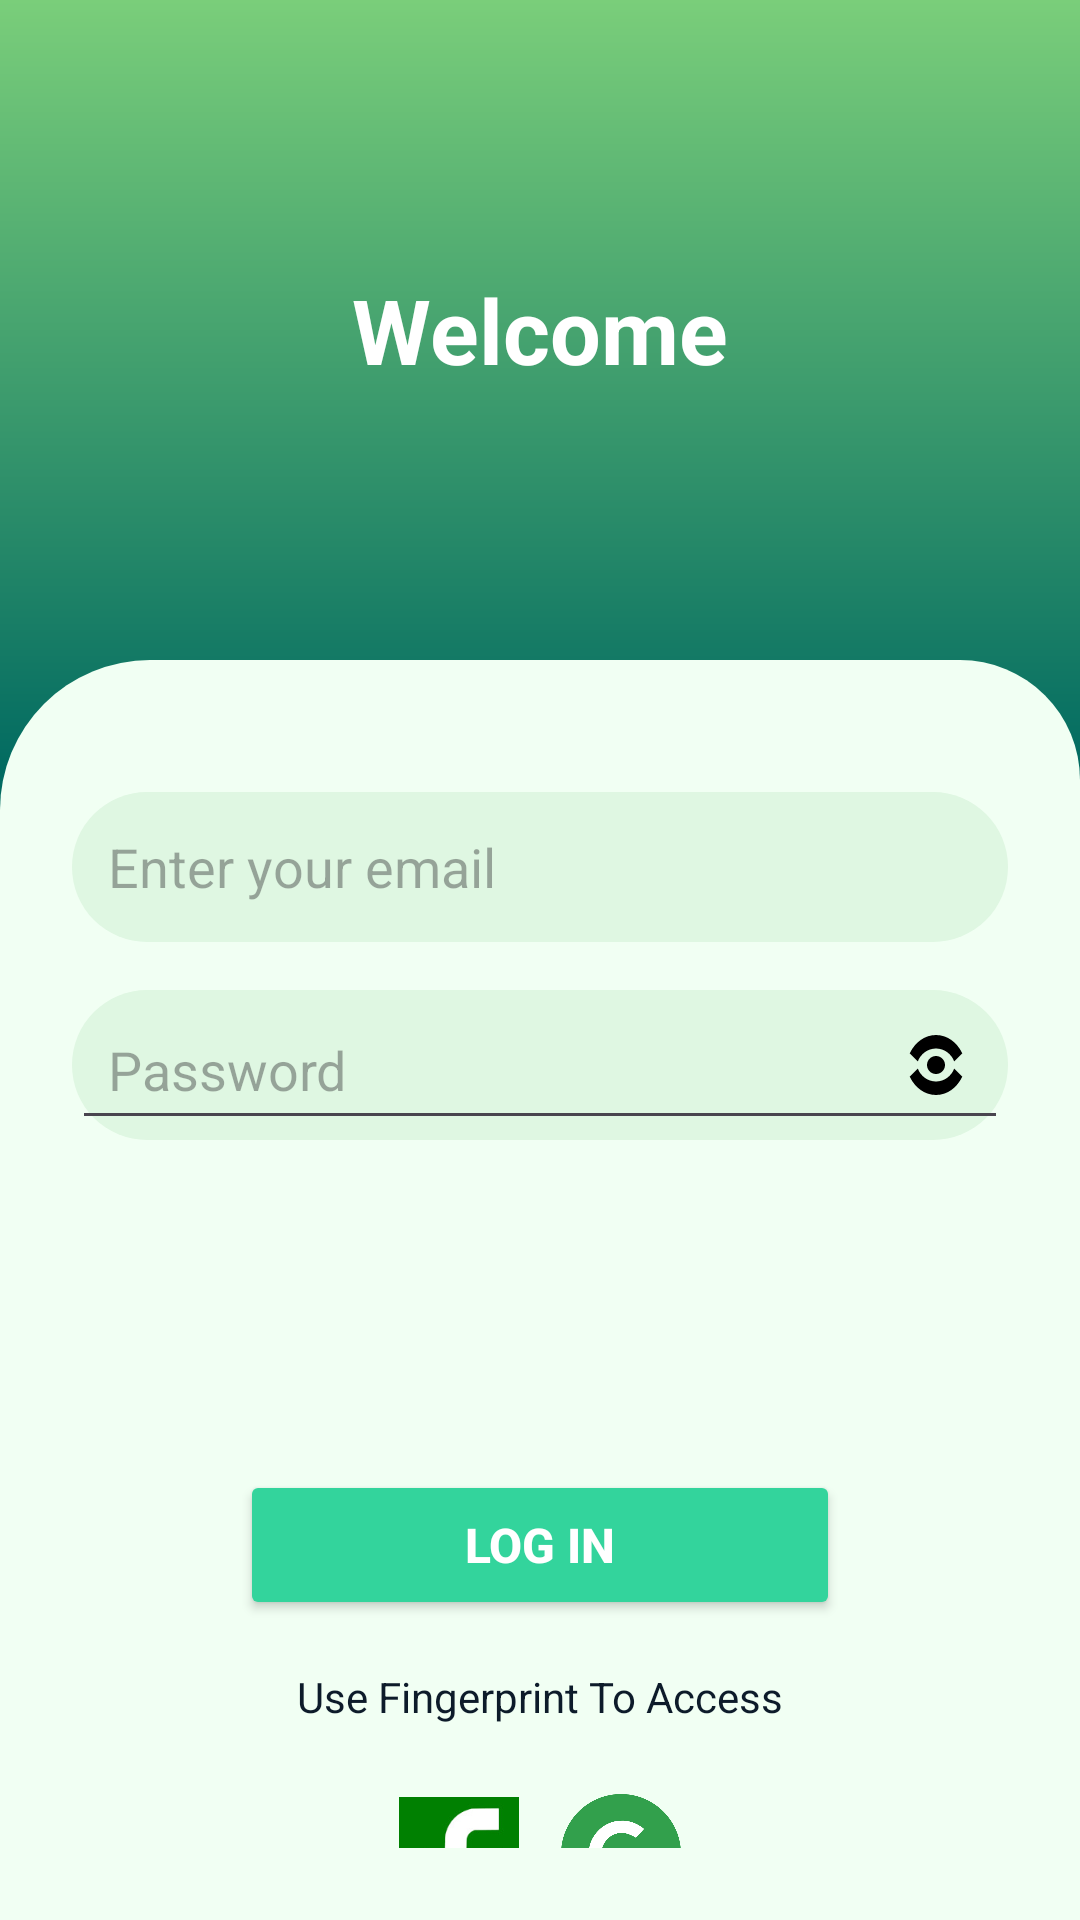

Icons on this 1080 x 1920 Android screen, each with the point to tap as (x=x, y=y):
visibility: (x=936, y=1065)
